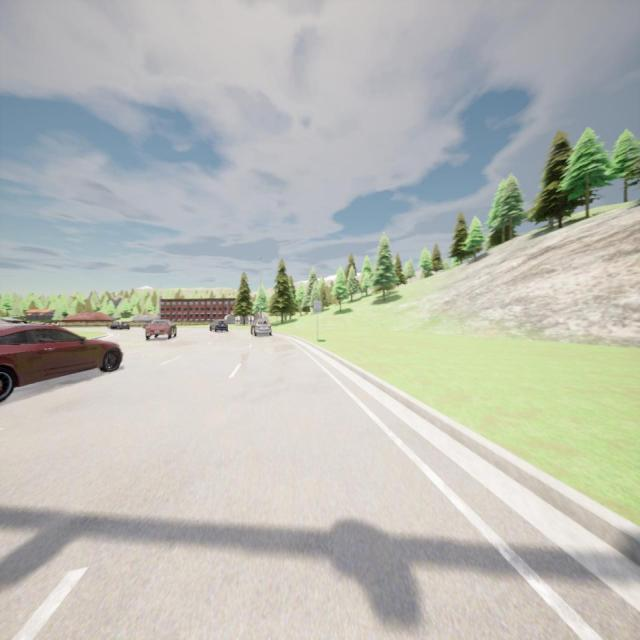Traffic_Signs: (313, 299, 323, 313)
Vehicle: (0, 318, 123, 402), (144, 320, 177, 339), (251, 318, 272, 337), (108, 320, 130, 330), (210, 319, 228, 331)
